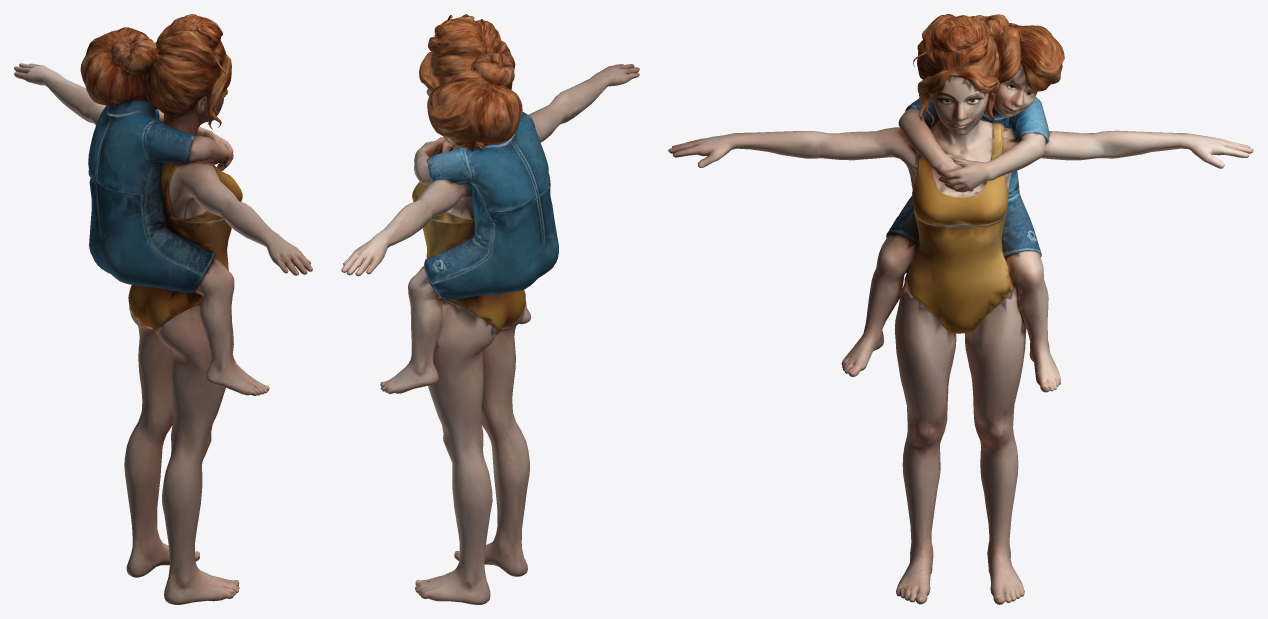
File: the-mom.glb
The picture shows the model from 3 angles, left to right: view 1: azimuth 30°, elevation 25°; view 2: azimuth 150°, elevation 25°; view 3: azimuth 270°, elevation 25°; orthographic projection. The views are drawn at different scales.
Parts seen in each view (by area): view 1: the-mom; view 2: the-mom; view 3: the-mom.
Part boxes in pixels (x1=…): the-mom: x1=14, y1=14, x2=312, y2=604; the-mom: x1=341, y1=14, x2=639, y2=604; the-mom: x1=668, y1=14, x2=1253, y2=604.
Bounding box in the file's own units: 0.236 × 0.9795 × 0.9027.
Materials: 1 (1 with a texture image).
